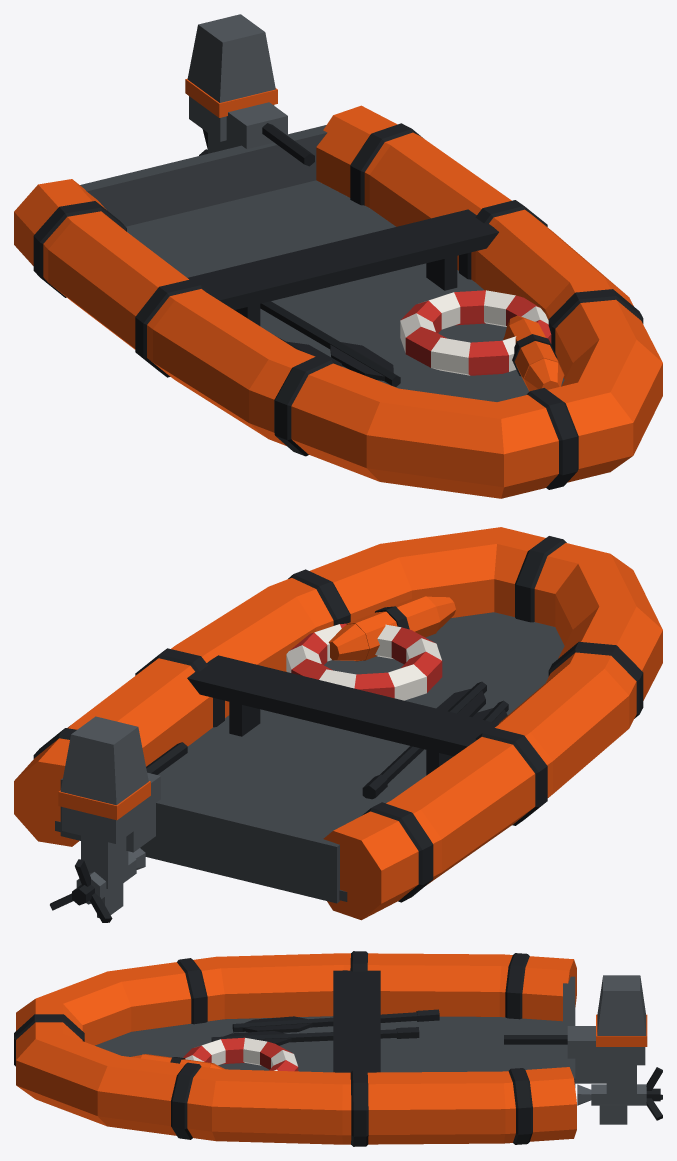
File: Boat.glb
3 renders of one model, top to bottom at view 1: azimuth 30°, elevation 25°; view 2: azimuth 150°, elevation 25°; view 3: azimuth 270°, elevation 25°, orthographic. The views are drawn at different scales.
Parts seen in each view (by area): view 1: side_tube, deck_floor, bench_plank, transom, lifebuoy, motor_cowling, motor_clamp, oar_1_shaft, torpedo_body, motor_stripe, bench, oar_1_blade (+3 smaller); view 2: side_tube, deck_floor, transom, bench_plank, lifebuoy, motor_cowling, torpedo_body, motor_midbody, motor_shaft, motor_stripe, bench, torpedo_nose_1 (+5 smaller); view 3: side_tube, deck_floor, bench_plank, motor_cowling, lifebuoy, motor_clamp, motor_shaft, oar_2_shaft, motor_midbody, transom, oar_1_shaft, motor_gearcase (+6 smaller).
Part boxes in pixels (box(x1,y1,x2,y2)): side_tube: box(14, 105, 662, 498); deck_floor: box(126, 180, 564, 401); bench_plank: box(188, 209, 498, 309); transom: box(80, 125, 327, 226); lifebuoy: box(400, 290, 551, 375); motor_cowling: box(187, 14, 275, 102); motor_clamp: box(219, 102, 287, 150); oar_1_shaft: box(260, 301, 400, 386); torpedo_body: box(503, 318, 564, 391); motor_stripe: box(185, 78, 277, 117); bench: box(234, 256, 457, 325); oar_1_blade: box(330, 342, 393, 381); side_tube: box(14, 527, 662, 920); deck_floor: box(55, 612, 564, 901); transom: box(60, 778, 339, 903); bench_plank: box(187, 655, 498, 756); lifebuoy: box(286, 623, 442, 700); motor_cowling: box(60, 716, 148, 805); torpedo_body: box(346, 596, 440, 661); motor_midbody: box(62, 798, 147, 843); motor_shaft: box(81, 835, 128, 888); motor_stripe: box(58, 781, 150, 820); bench: box(229, 702, 453, 775); torpedo_nose_1: box(328, 623, 369, 660); side_tube: box(14, 951, 576, 1146); deck_floor: box(95, 1016, 562, 1072); bench_plank: box(333, 970, 380, 1072); motor_cowling: box(597, 975, 646, 1035); lifebuoy: box(183, 1037, 298, 1071); motor_clamp: box(567, 1026, 609, 1083); motor_shaft: box(606, 1065, 636, 1099); oar_2_shaft: box(232, 1012, 417, 1032); motor_midbody: box(598, 1047, 645, 1065); transom: box(563, 976, 575, 1087); oar_1_shaft: box(211, 1029, 397, 1042); motor_gearcase: box(591, 1084, 646, 1105).
Size of the model in its own units: 2.55 by 1.11 by 4.68.
